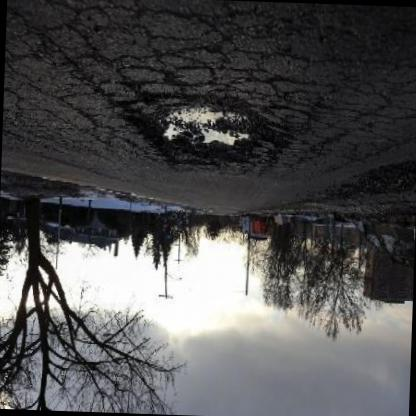pothole: (124, 91, 274, 170)
